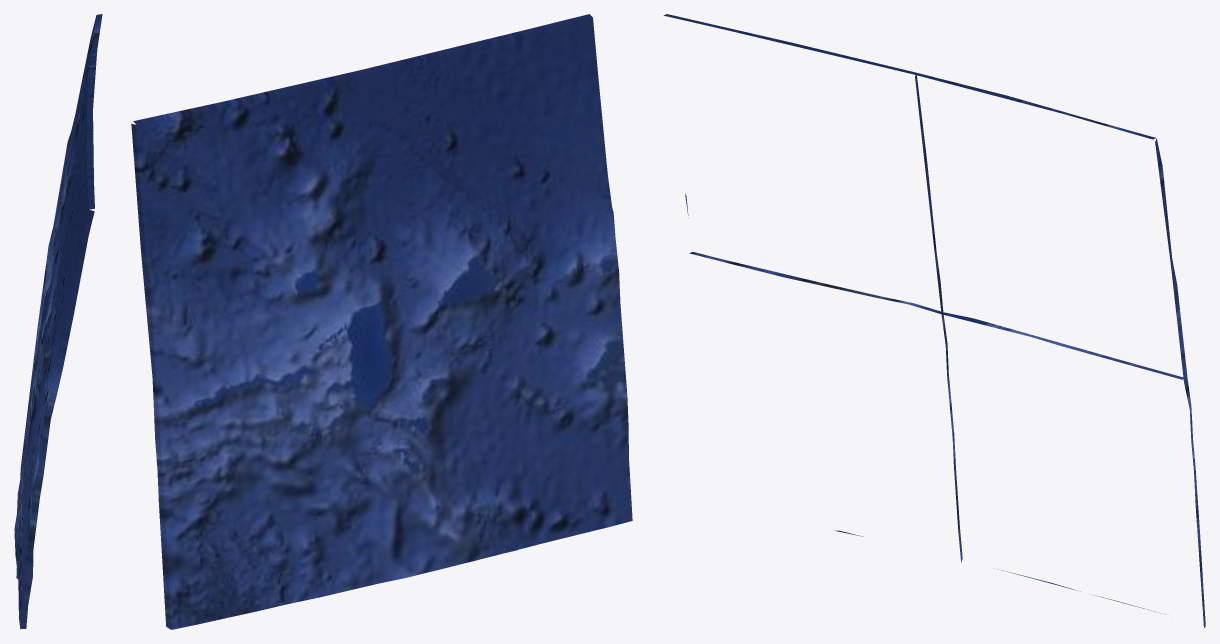
3 renders of one model, left to right at view 1: azimuth 30°, elevation 25°; view 2: azimuth 150°, elevation 25°; view 3: azimuth 270°, elevation 25°, orthographic. The views are drawn at different scales.
Bounding box in the file's own units: 404217 × 623369 × 586873.
1 material, 1 textured.
